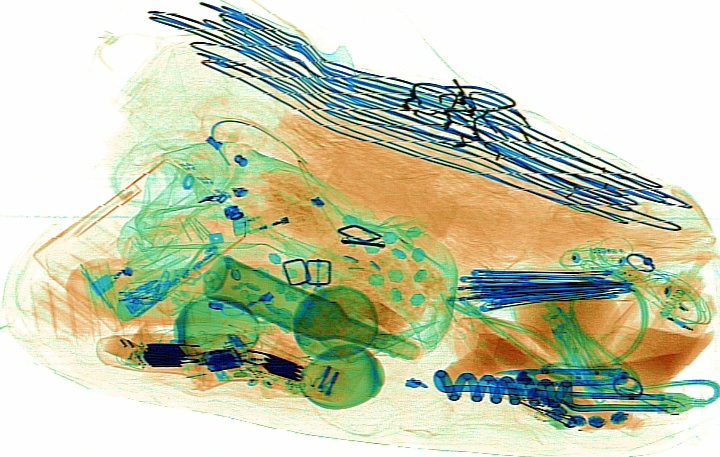lighter: (230, 197, 317, 235)
scissors: (491, 366, 628, 387)
